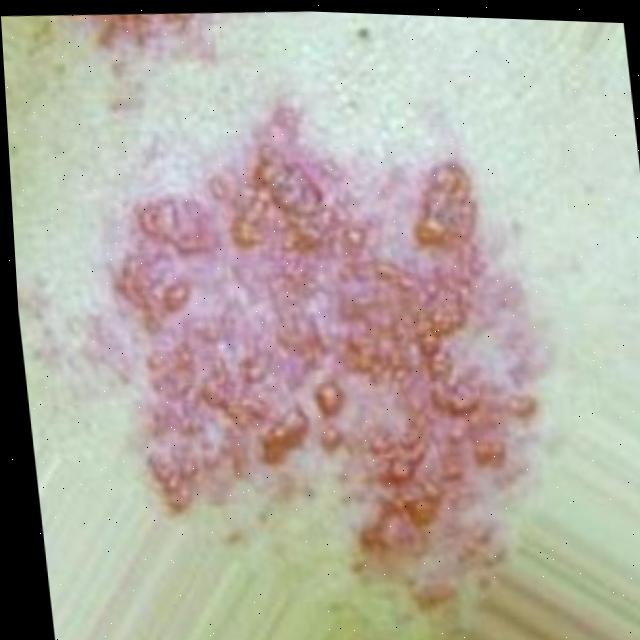Shingles: (74, 93, 565, 607), (44, 6, 236, 51)
